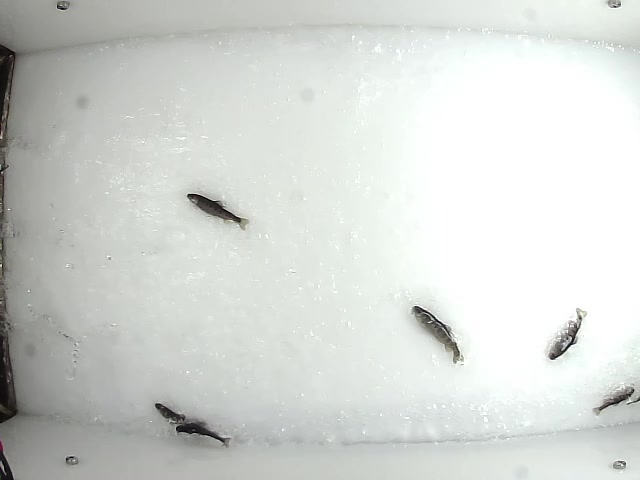fish: (410, 303, 465, 367), (183, 192, 250, 229), (544, 307, 590, 360), (175, 421, 233, 447), (590, 384, 638, 415), (153, 403, 189, 422)
